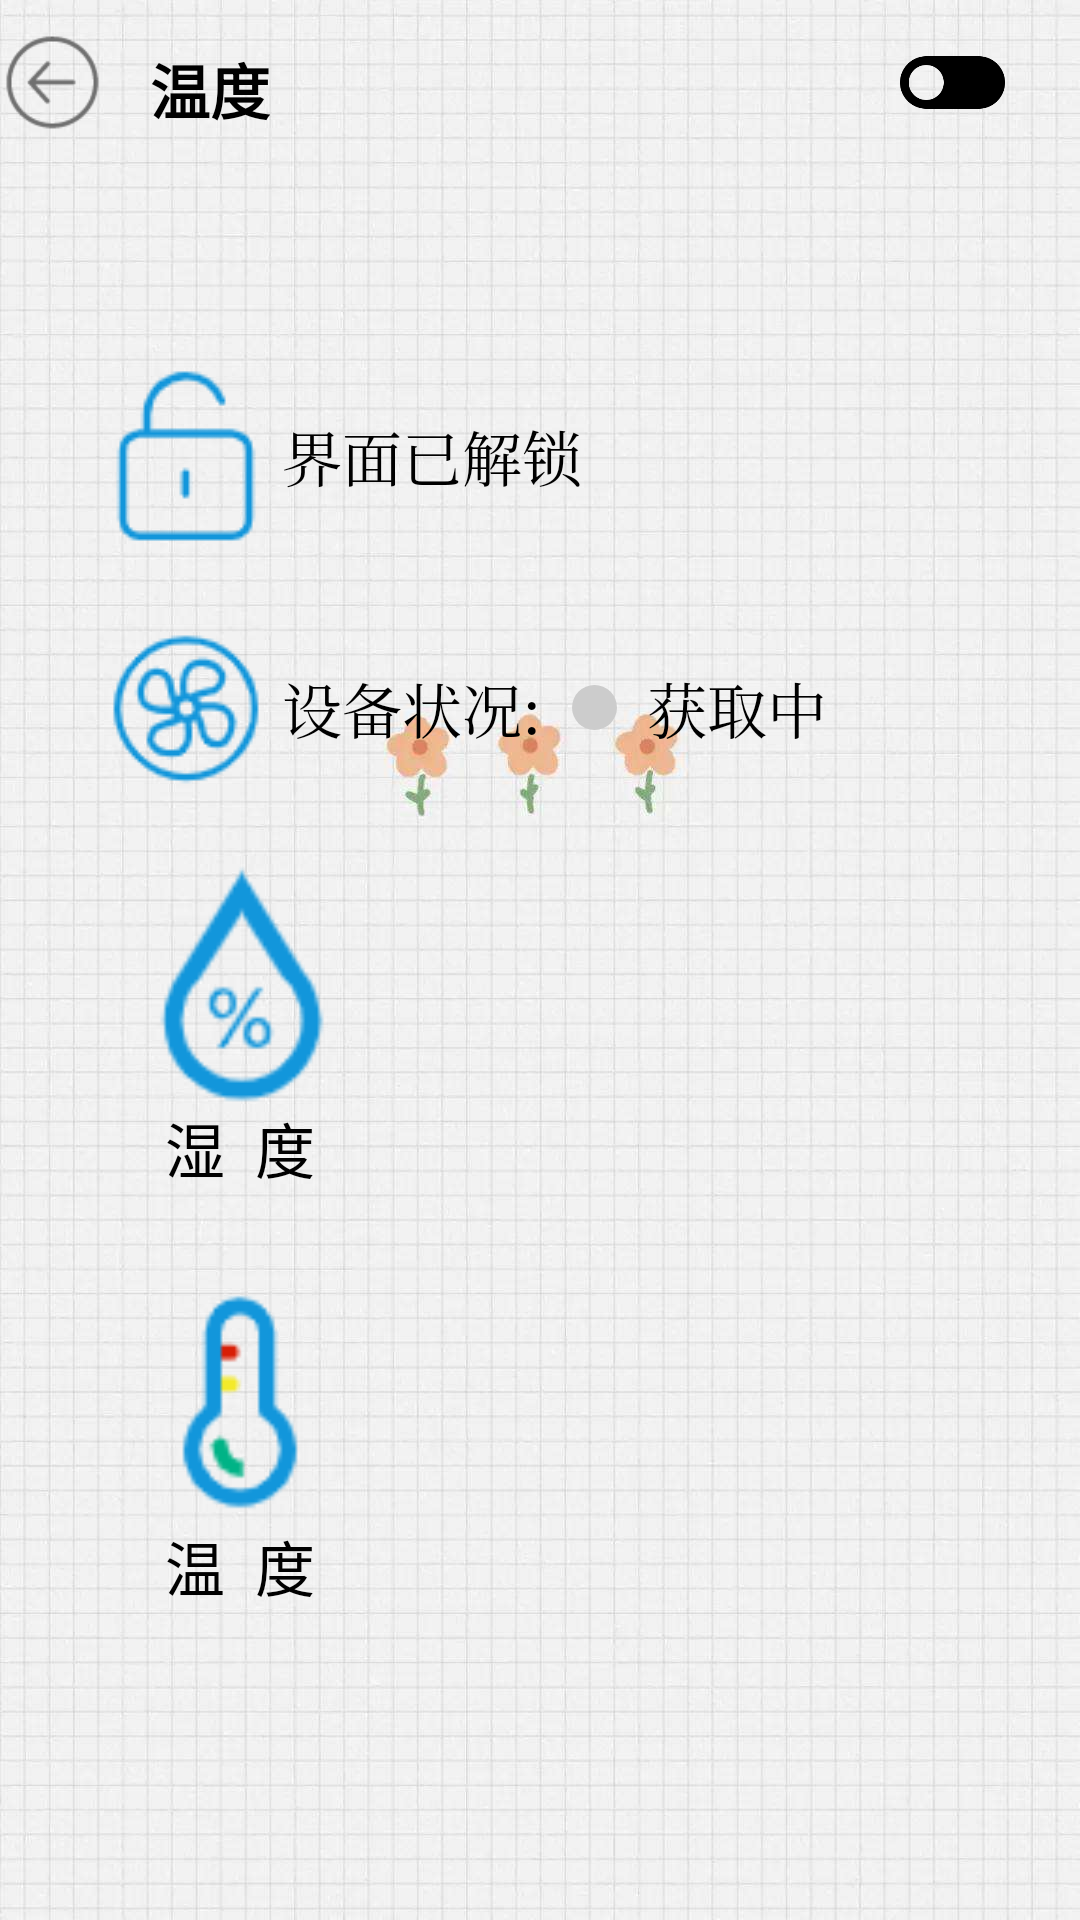

Screen size 1080*1920. Icon name, then its box in pixels as (x1, y1, x2, y2):
fan: (97, 629, 272, 803)
unlock: (97, 371, 270, 541)
